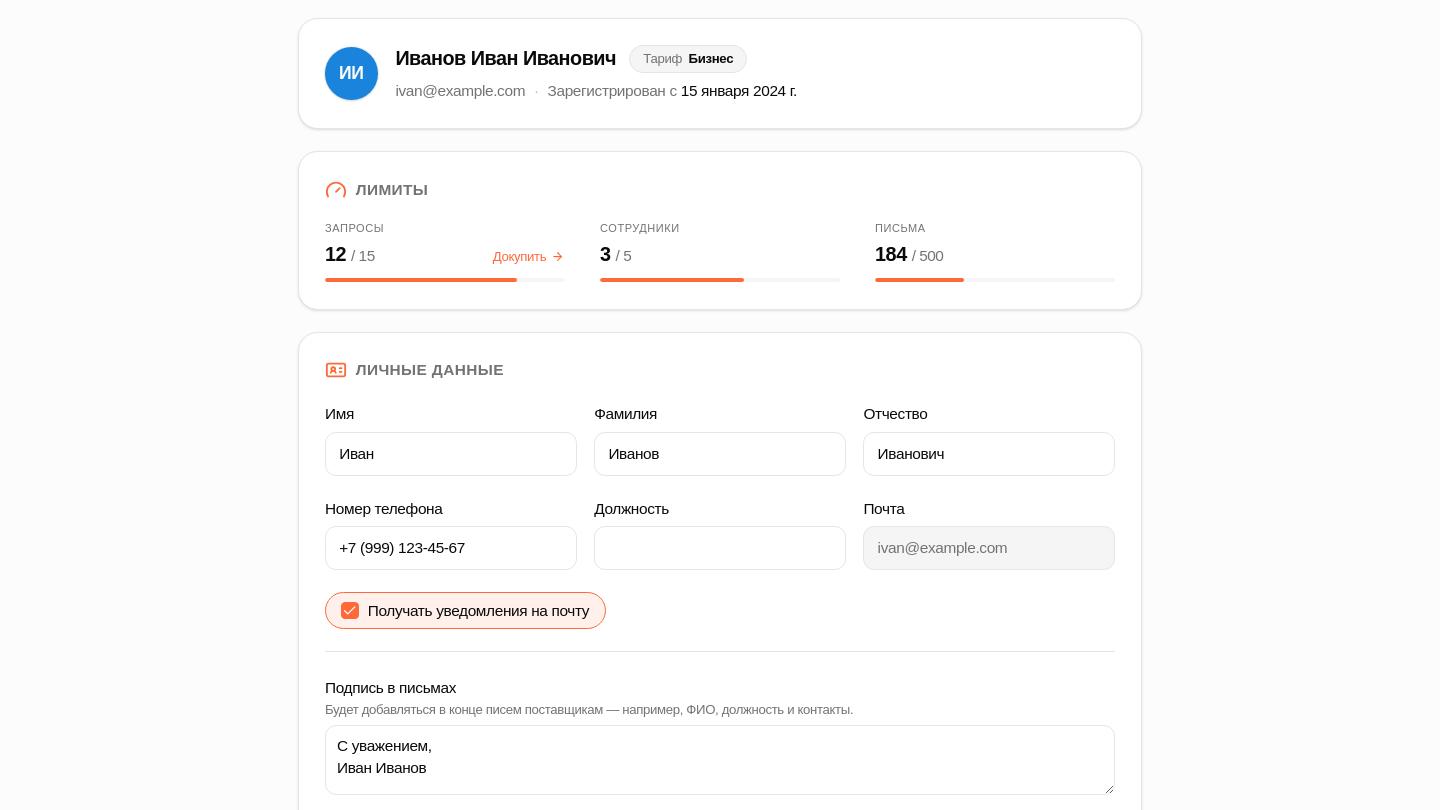
Test case: ProfileSettingsPage › Докупить запросы opens the top-up dialog
Click the button with aria-label "докупить запросы" at [528, 256], box [492,247,565,266]
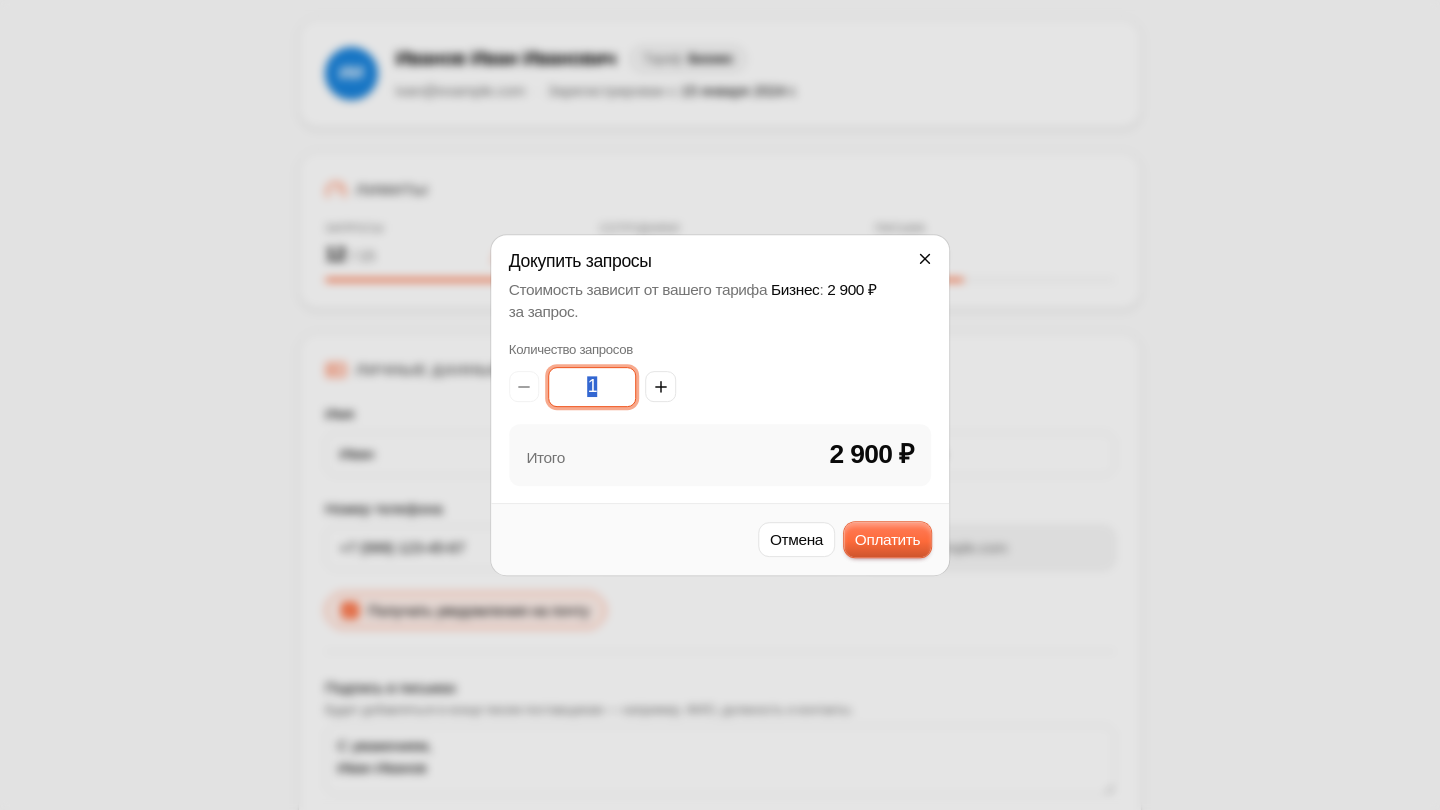
Expected: the dialog with test id "top-up-dialog" is shown, [491,235,949,575]
